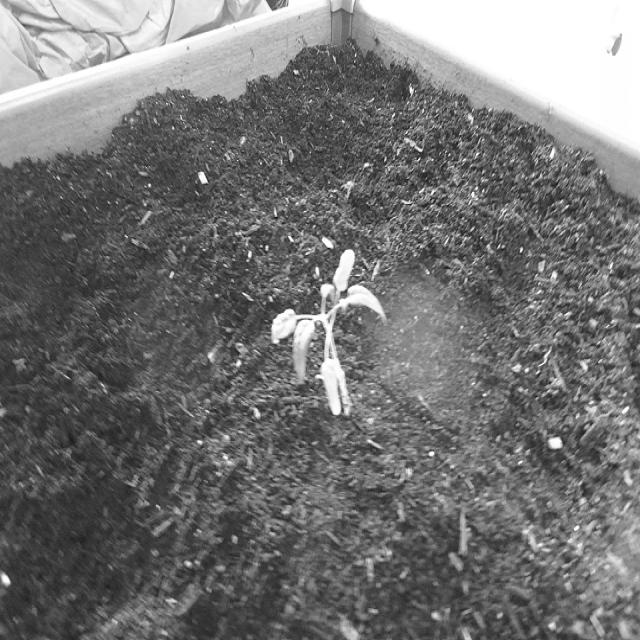Healthy: (268, 245, 396, 430)
